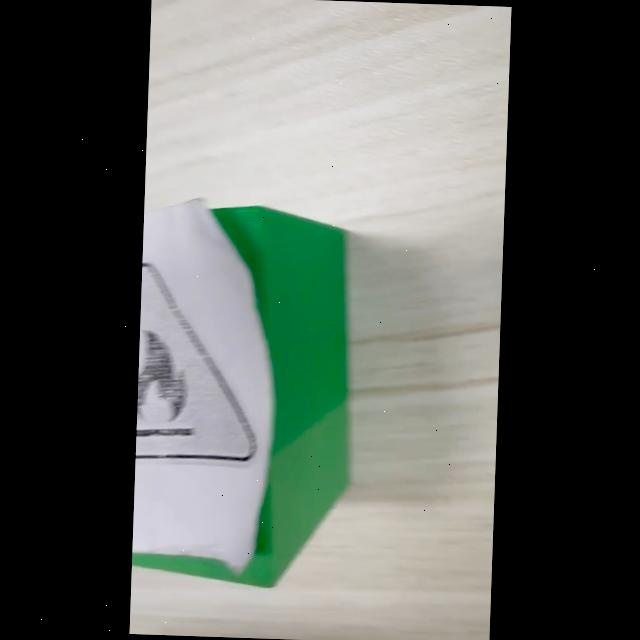Fire: (135, 262, 256, 462)
